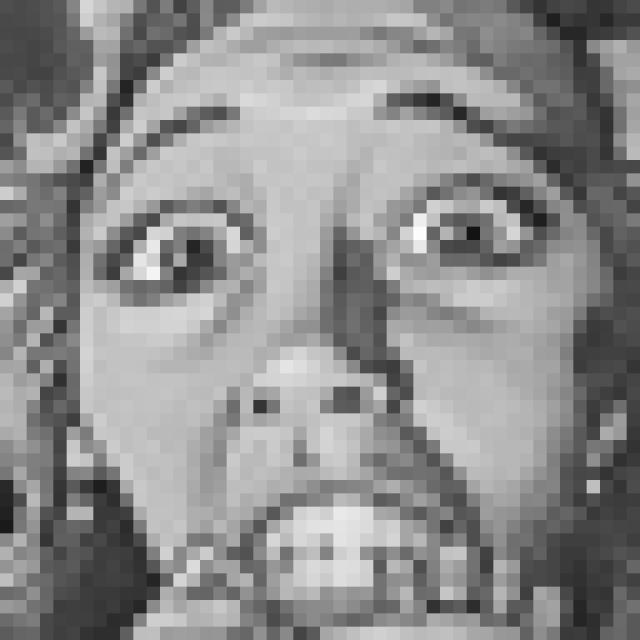fear: (92, 75, 574, 629)
